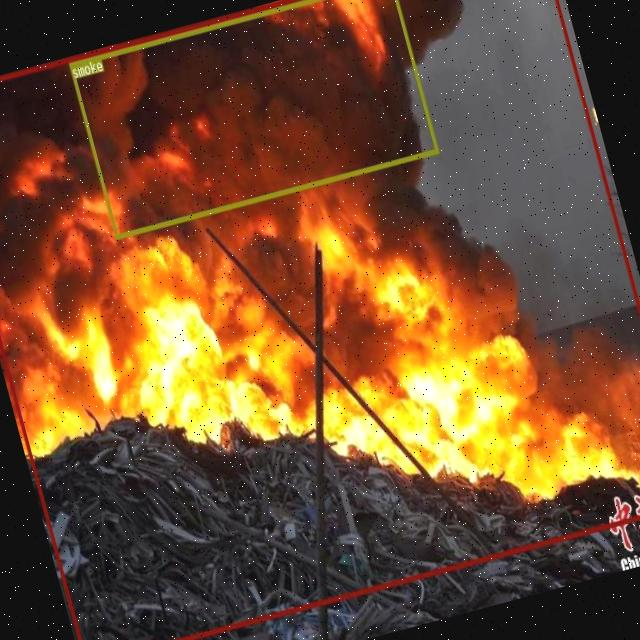fire: (0, 0, 640, 640)
smoke: (67, 0, 438, 238)
